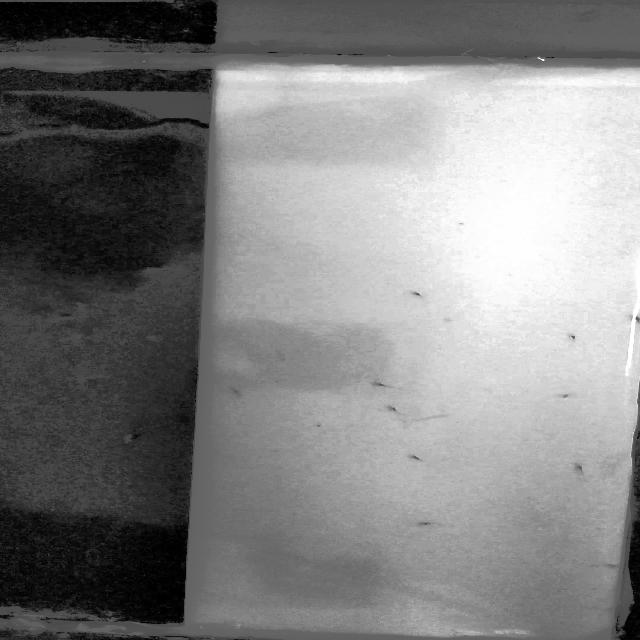shrimp: (395, 286, 435, 304), (413, 514, 448, 534), (398, 449, 436, 466), (565, 461, 596, 479), (366, 379, 400, 392), (562, 330, 586, 346), (383, 402, 411, 414), (223, 386, 245, 398)
